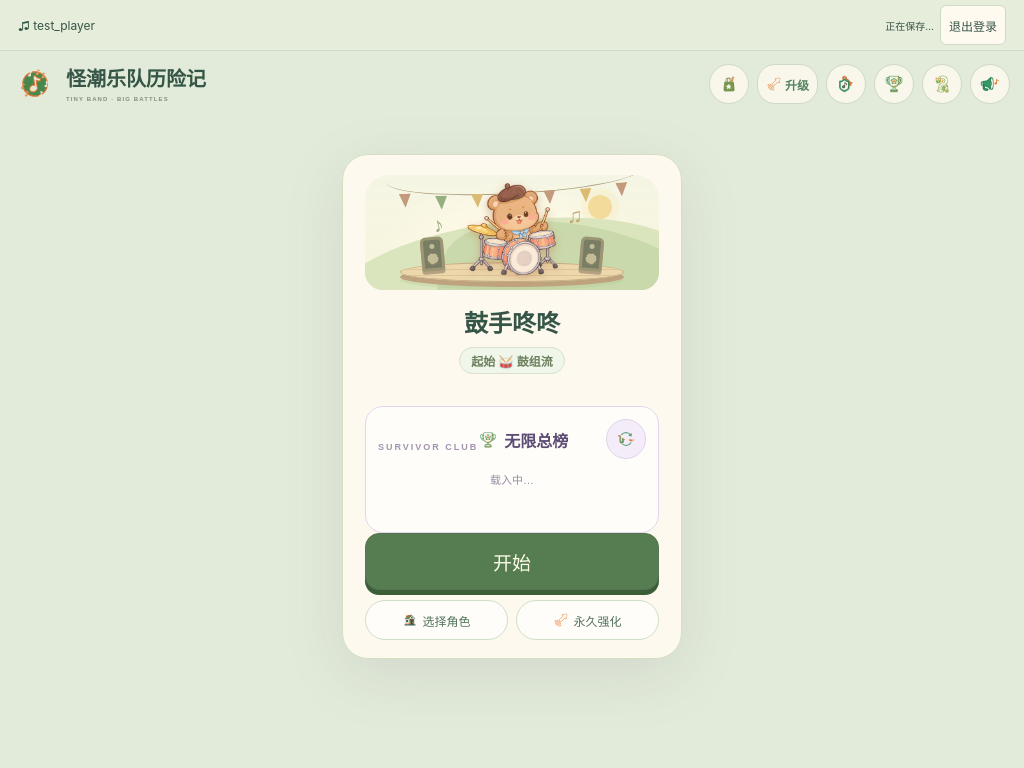
Test: opens and closes the farm help dialog
Expected: the button "退出登录" is shown, [940,5,1006,45]
Click the button named "查看进化配方" at (942, 84), box [922,64,962,104]
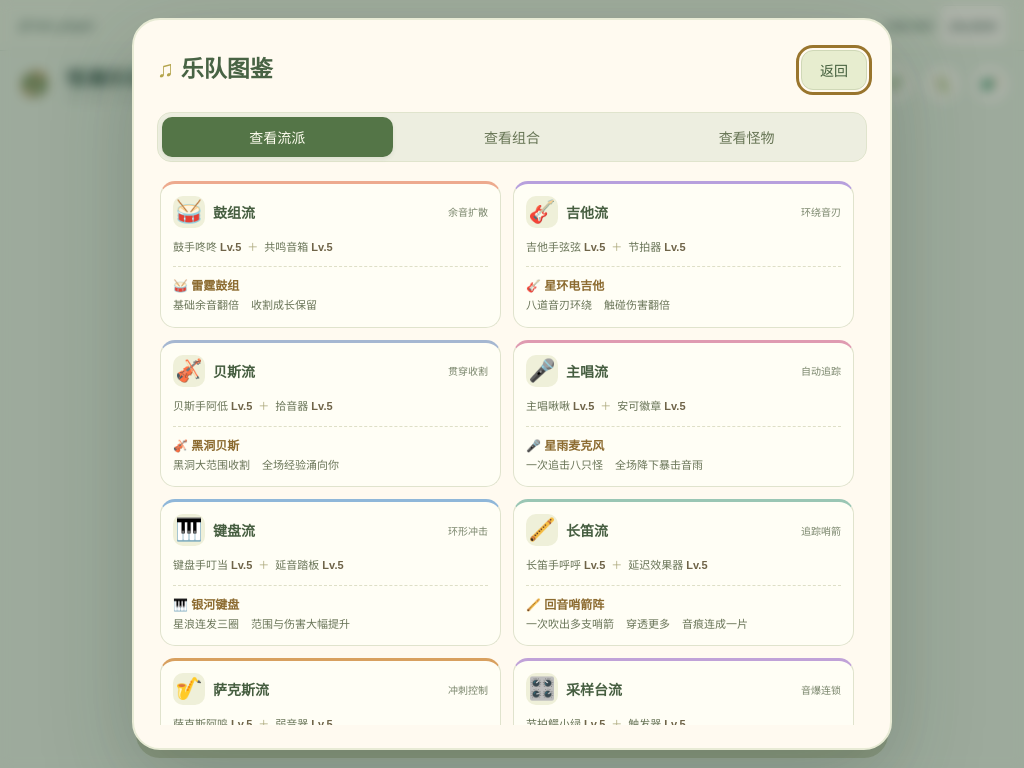
Now the dialog is shown
Click the button with aria-label "关闭帮助并返回" at (834, 70), box [801,50,867,90]
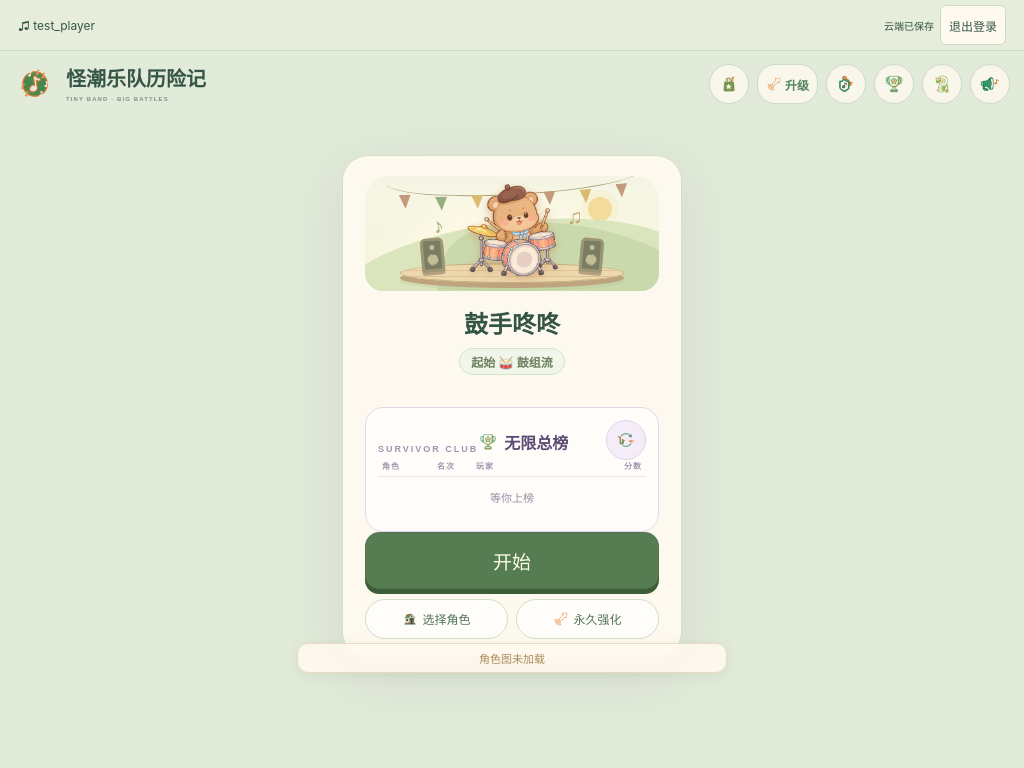
Now the dialog is gone
